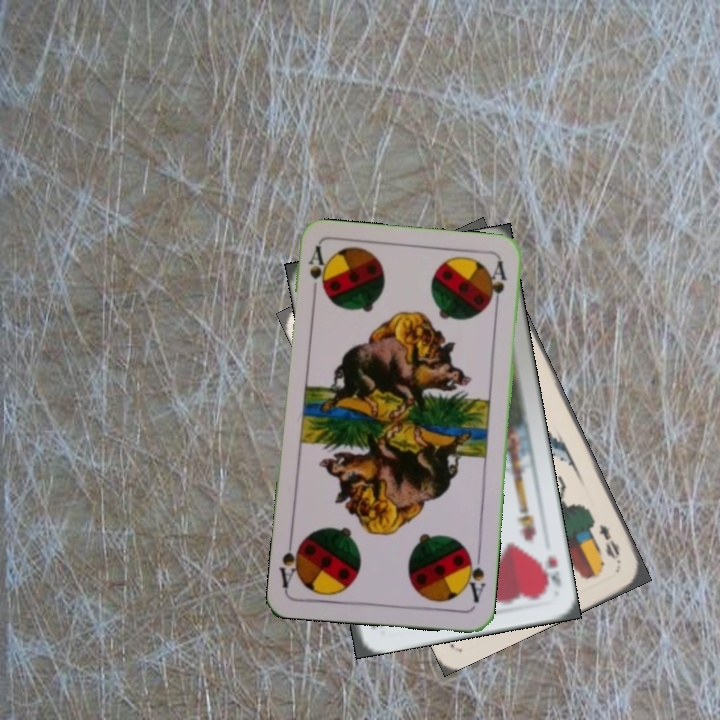EO: (595, 520, 622, 562)
HK: (535, 552, 564, 595)
SA: (461, 547, 488, 605), (304, 243, 328, 303)
